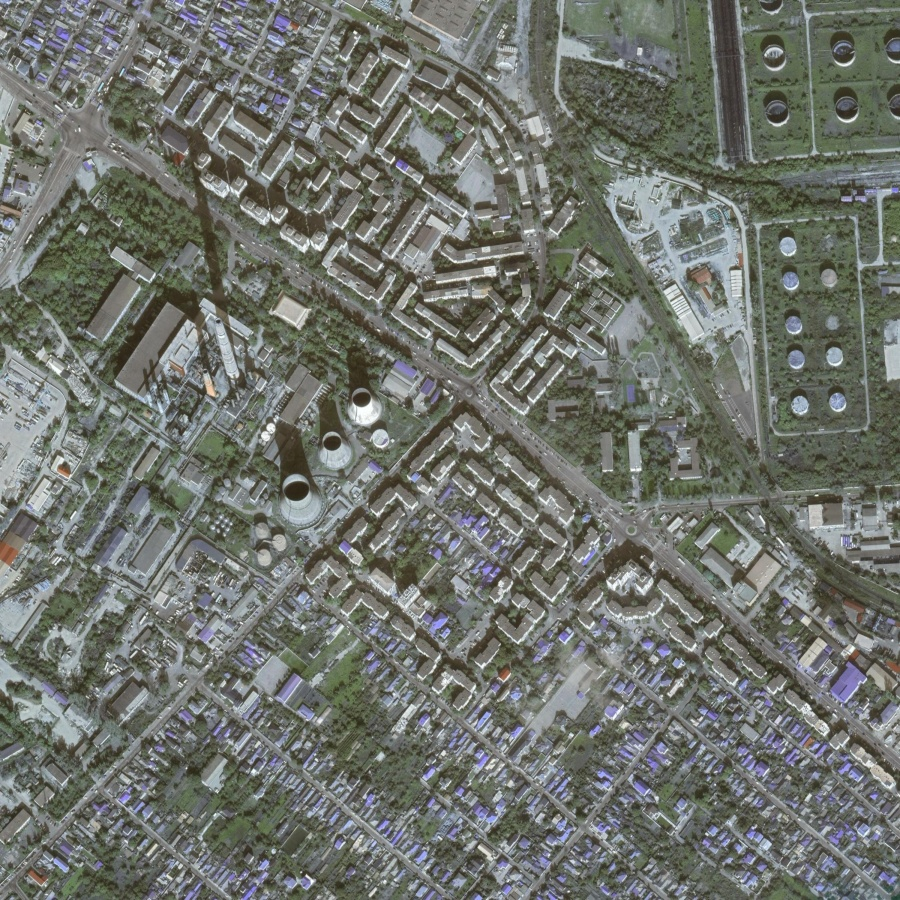PowerPlant: (122, 209, 408, 553)
